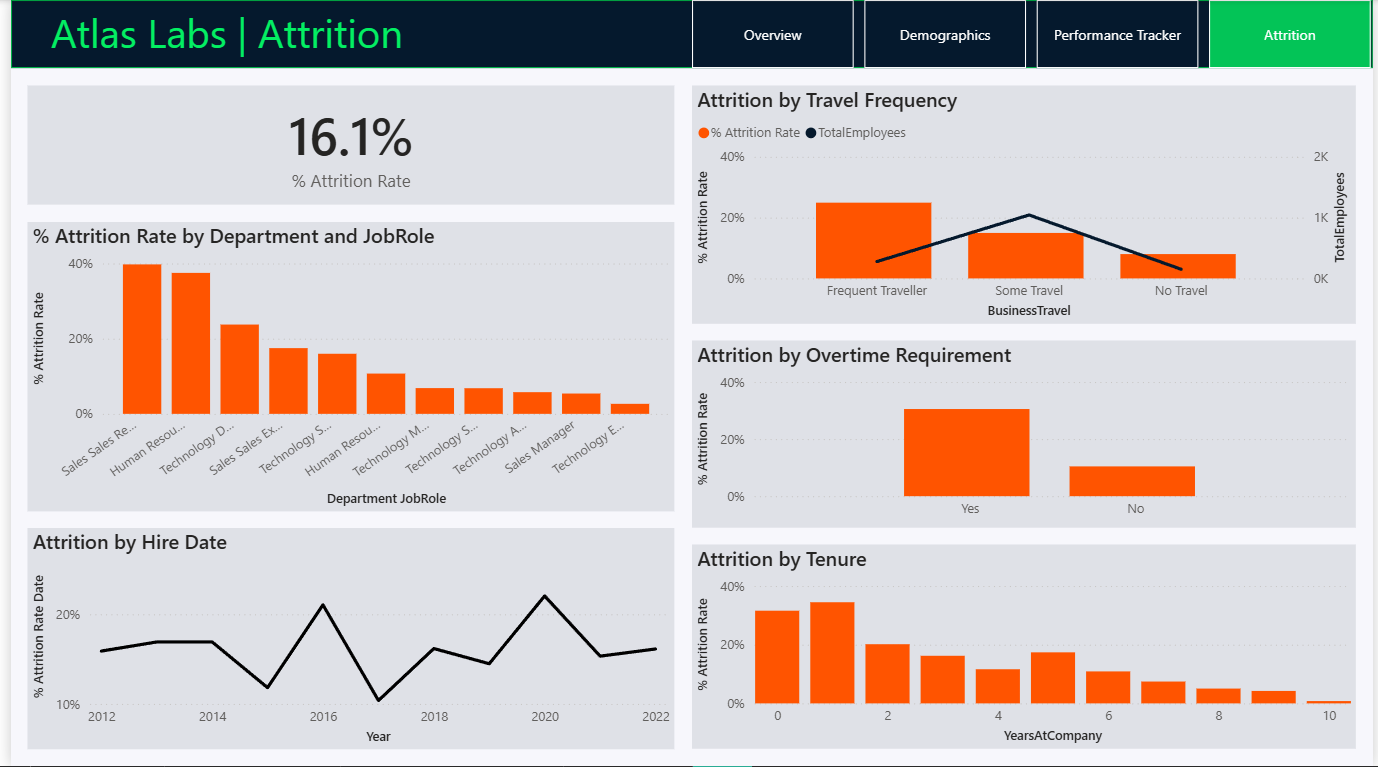

This screenshot's page, from the dashboard's own definition file:
{"tool":"powerbi","page":{"name":"Attrition","canvas":[1280,720],"ordinal":3},"visuals":[{"type":"card","fields":{"Values":["_Measures.% Attrition Rate"]},"box":[16,80,608,112],"z":0},{"type":"columnChart","fields":{"Category":["DimEmployee.Department","DimEmployee.JobRole"],"Y":["_Measures.% Attrition Rate"]},"box":[16,208,608,272],"z":1000},{"type":"lineChart","title":"Attrition by Hire Date","fields":{"Y":["_Measures.% Attrition Rate Date"],"Category":["DimDate.Date.Variation.Date Hierarchy.Year","DimDate.Date.Variation.Date Hierarchy.Quarter","DimDate.Date.Variation.Date Hierarchy.Month","DimDate.Date.Variation.Date Hierarchy.Day"]},"box":[16,496,608,208],"z":2000},{"type":"lineStackedColumnComboChart","title":"Attrition by Travel Frequency","fields":{"Y":["_Measures.% Attrition Rate"],"Category":["DimEmployee.BusinessTravel"],"Y2":["_Measures.TotalEmployees"]},"box":[640,80,624,224],"z":3000},{"type":"columnChart","title":"Attrition by Overtime Requirement","fields":{"Category":["DimEmployee.OverTime"],"Y":["_Measures.% Attrition Rate"]},"box":[640,320,624,176],"z":4000},{"type":"columnChart","title":"Attrition by Tenure","fields":{"Category":["DimEmployee.YearsAtCompany"],"Y":["_Measures.% Attrition Rate"]},"box":[640,512,624,192],"z":5000},{"type":"shape","box":[0,0,1280,64],"z":6000},{"type":"textbox","box":[32,0,624,64],"z":7000},{"type":"pageNavigator","box":[640,0,640,64],"z":8000}]}

Visuals, with their boxes in screenshot pixels (x1, y1, x2, y2), scaled from the page's 1280x720 canvas onto the 1378x767 screenshot:
card - _Measures.% Attrition Rate: (x1=17, y1=85, x2=672, y2=205)
columnChart - DimEmployee.Department x DimEmployee.JobRole: (x1=17, y1=222, x2=672, y2=511)
"Attrition by Hire Date" lineChart: (x1=17, y1=528, x2=672, y2=750)
"Attrition by Travel Frequency" lineStackedColumnComboChart: (x1=689, y1=85, x2=1361, y2=324)
"Attrition by Overtime Requirement" columnChart: (x1=689, y1=341, x2=1361, y2=528)
"Attrition by Tenure" columnChart: (x1=689, y1=545, x2=1361, y2=750)
shape: (x1=0, y1=0, x2=1377, y2=68)
textbox: (x1=34, y1=0, x2=706, y2=68)
pageNavigator: (x1=689, y1=0, x2=1377, y2=68)
